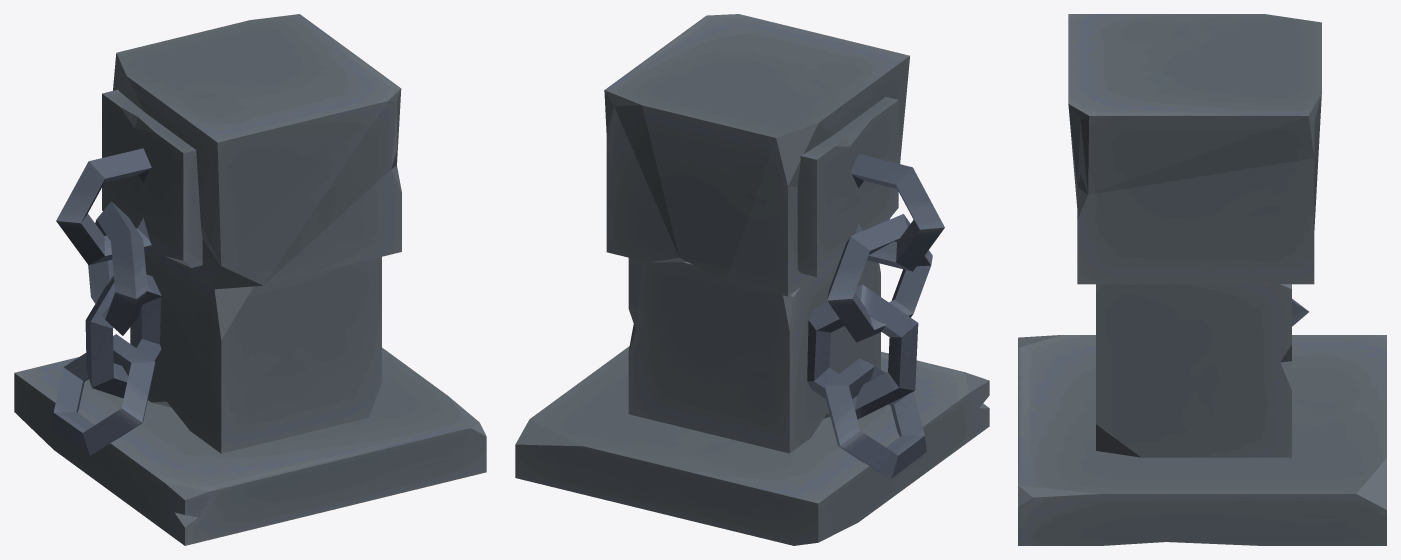
The model's file is Pillar1B-005_02_07_5918.fbx.
The picture shows the model from 3 angles, left to right: view 1: azimuth 30°, elevation 25°; view 2: azimuth 150°, elevation 25°; view 3: azimuth 270°, elevation 25°; orthographic projection. The views are drawn at different scales.
Visible parts, largest first — view 1: 1B_Pillar, ChainLink (3), ChainLink (1), ChainLink, ChainLink (2); view 2: 1B_Pillar, ChainLink (2), ChainLink (3), ChainLink (1), ChainLink; view 3: 1B_Pillar.
Boxes of the visible parts, x1,y1,x2,y2 form: 1B_Pillar: (14, 14, 486, 545); ChainLink (3): (51, 334, 155, 455); ChainLink (1): (88, 201, 147, 335); ChainLink: (56, 148, 153, 265); ChainLink (2): (85, 274, 161, 398); 1B_Pillar: (515, 14, 989, 545); ChainLink (2): (807, 284, 918, 419); ChainLink (3): (824, 358, 926, 478); ChainLink (1): (827, 214, 932, 342); ChainLink: (850, 154, 944, 271); 1B_Pillar: (1018, 14, 1386, 545).
Size of the model in its own units: 2.15 by 2.22 by 1.84.
